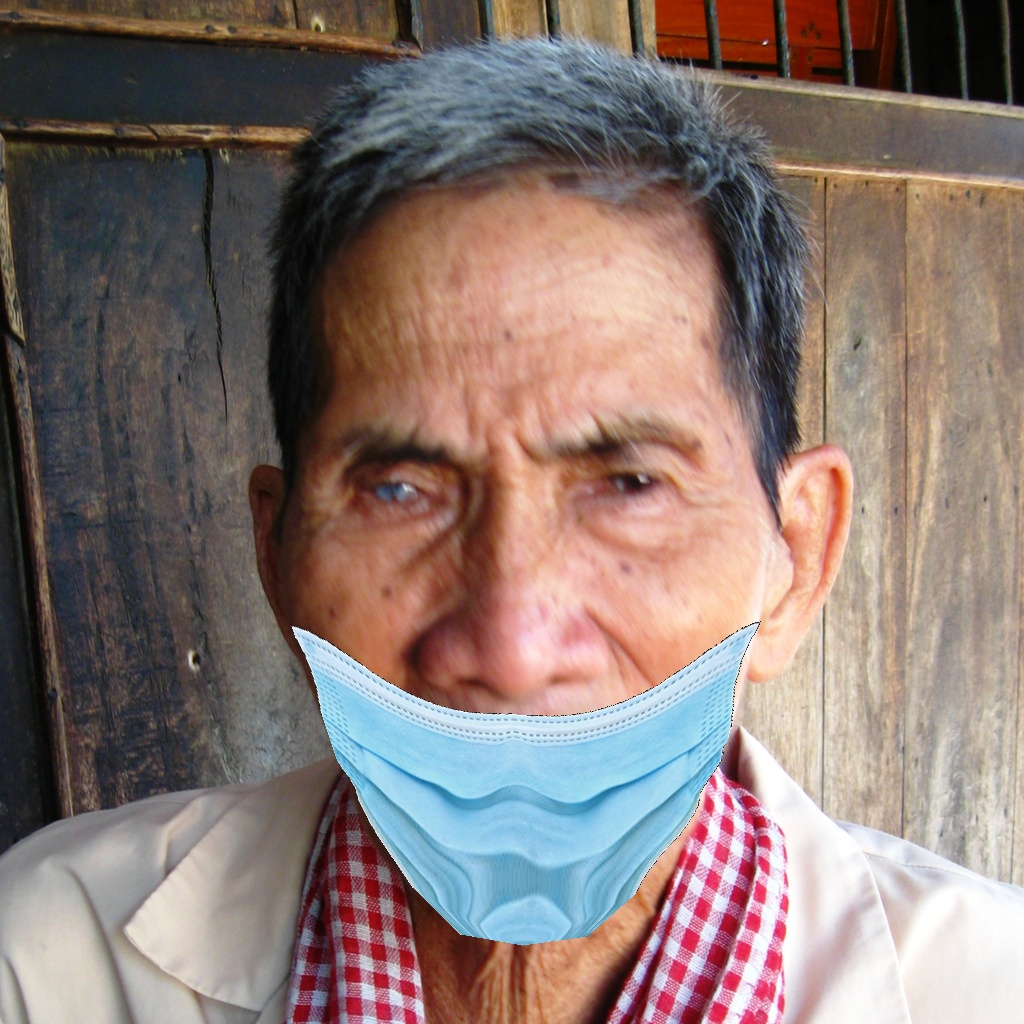mascarilla_mal_puesta: (229, 388, 872, 980)
